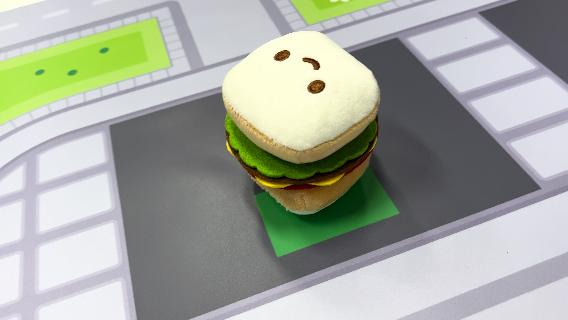sandwich: (219, 28, 383, 215)
